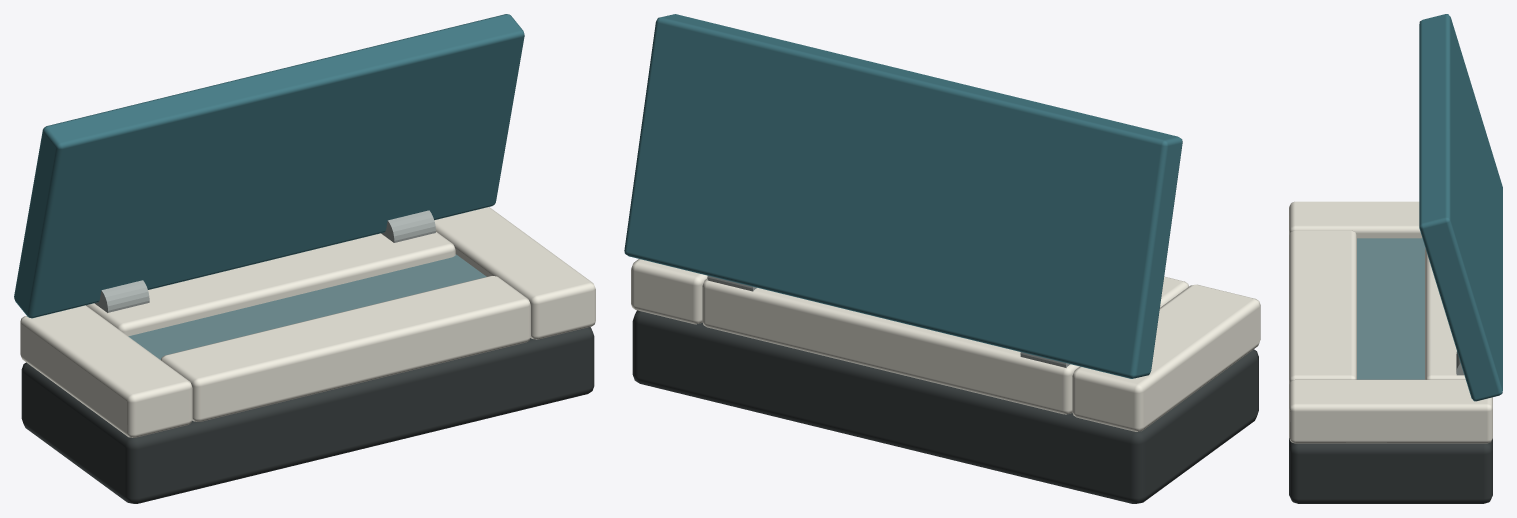
Rendered from optician-and-optical-lens-workshop-optician-and-optica-9dda7baa__31686.glb.
3 renders of one model, left to right at view 1: azimuth 30°, elevation 25°; view 2: azimuth 150°, elevation 25°; view 3: azimuth 270°, elevation 25°, orthographic. The views are drawn at different scales.
Parts seen in each view (by area): view 1: optician-and-optical-lens-workshop-spectacle-storage-case; view 2: optician-and-optical-lens-workshop-spectacle-storage-case; view 3: optician-and-optical-lens-workshop-spectacle-storage-case.
Part boxes in pixels (x1,y1,x2,y2): optician-and-optical-lens-workshop-spectacle-storage-case: (14,14,595,503); optician-and-optical-lens-workshop-spectacle-storage-case: (624,14,1260,503); optician-and-optical-lens-workshop-spectacle-storage-case: (1289,14,1502,503).
Bounding box in the file's own units: 0.18 × 0.117 × 0.0786.
